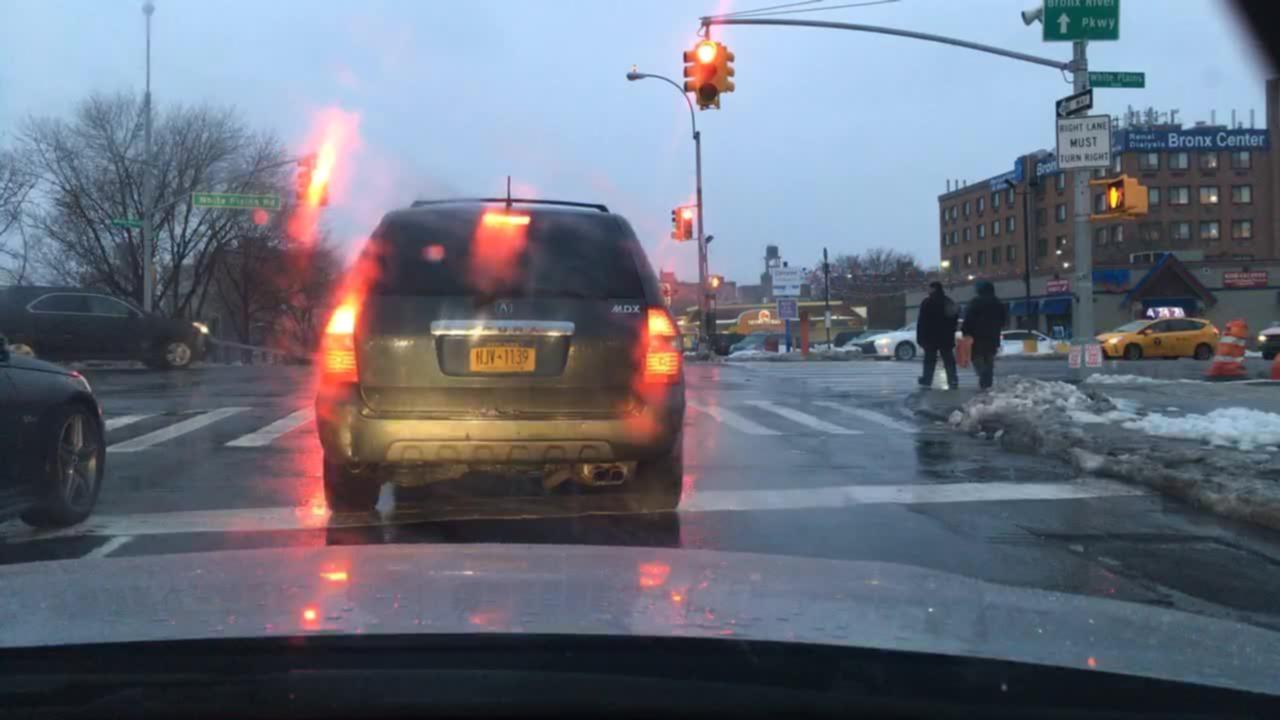acura: (490, 297, 518, 319)
